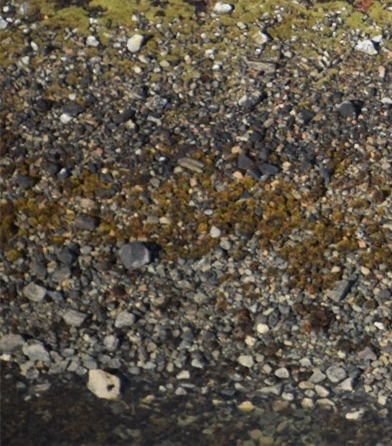white_in_green: (62, 348, 142, 417)
